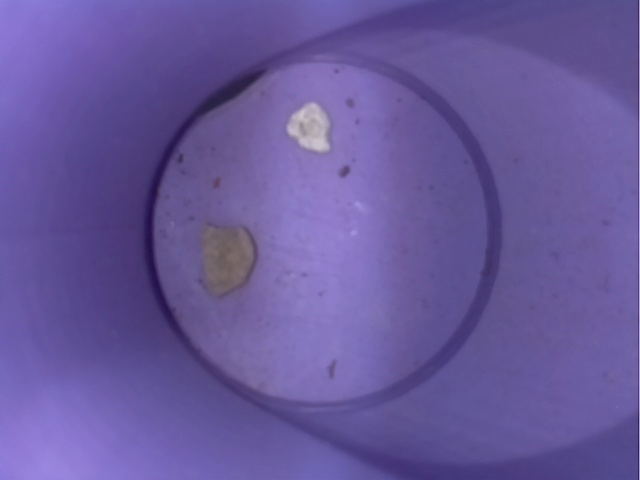caillou: (188, 212, 266, 314), (280, 94, 338, 163)
